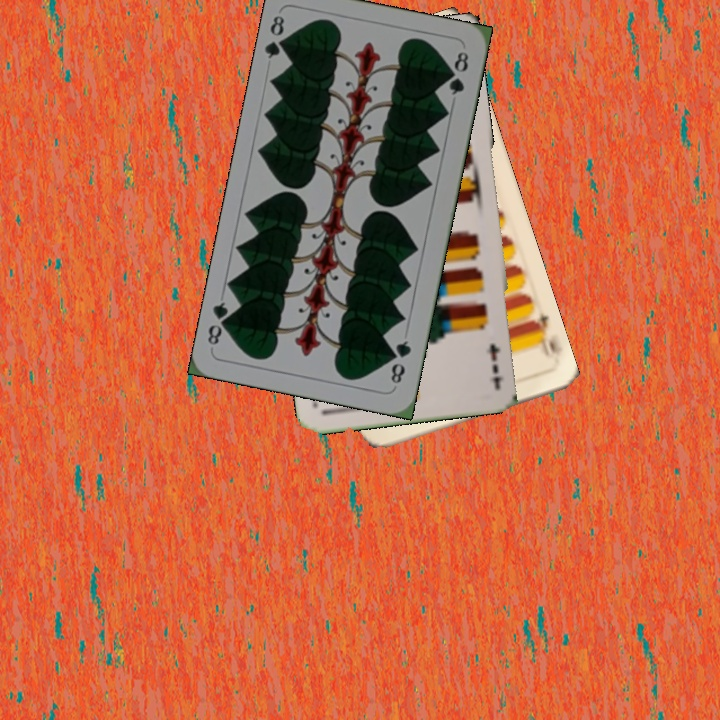E10: (525, 309, 564, 366)
E7: (483, 340, 503, 376)
G8: (261, 11, 292, 61), (387, 336, 414, 386)
